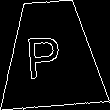P_N: (32, 27, 71, 80)
